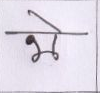e_matra: (28, 9, 65, 32)
